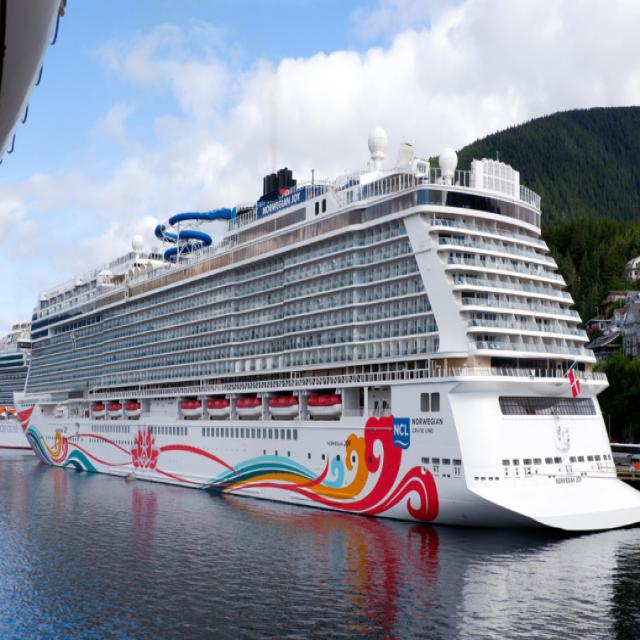cruises: (21, 125, 640, 544), (1, 318, 42, 453)
